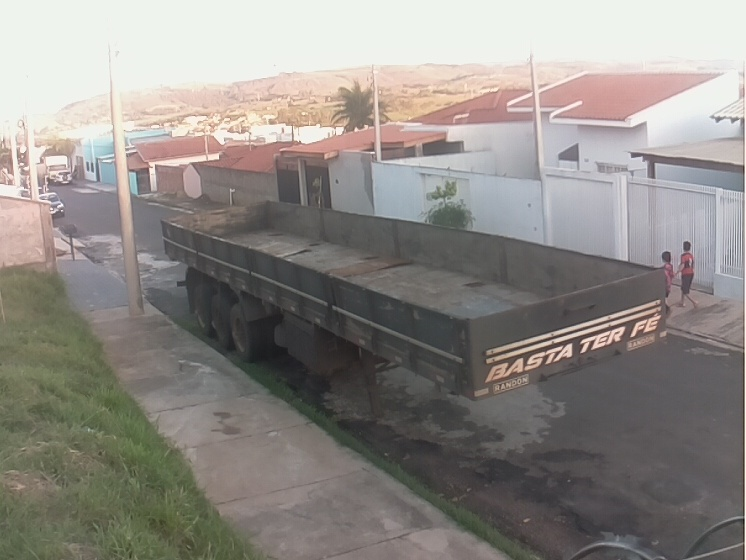person: (673, 239, 703, 310), (661, 249, 671, 312)
